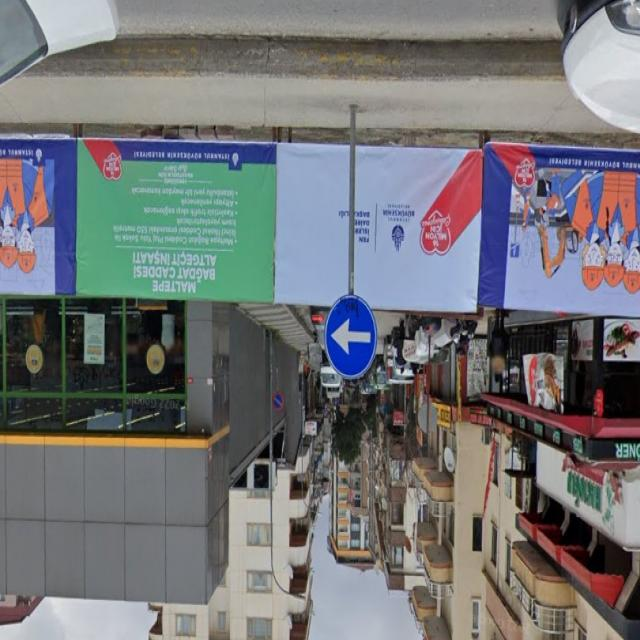Turn Left: (325, 297, 378, 381)
